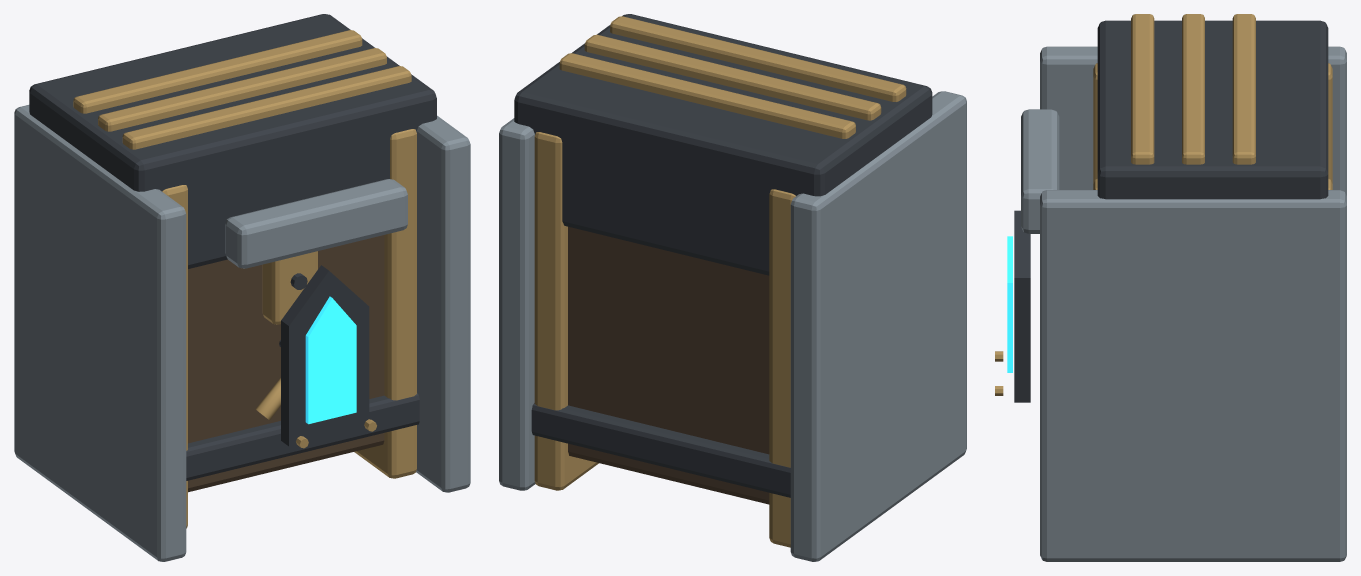
The picture shows the model from 3 angles, left to right: view 1: azimuth 30°, elevation 25°; view 2: azimuth 150°, elevation 25°; view 3: azimuth 270°, elevation 25°; orthographic projection. The views are drawn at different scales.
Parts seen in each view (by area): view 1: TV-189 Avar Thren — Steward Chest; view 2: TV-189 Avar Thren — Steward Chest; view 3: TV-189 Avar Thren — Steward Chest.
Boxes of the visible parts, x1,y1,x2,y2 form: TV-189 Avar Thren — Steward Chest: (14,14,470,561); TV-189 Avar Thren — Steward Chest: (499,14,966,561); TV-189 Avar Thren — Steward Chest: (995,14,1346,561).
Size of the model in its own units: 0.2734 by 0.3251 by 0.2575.
